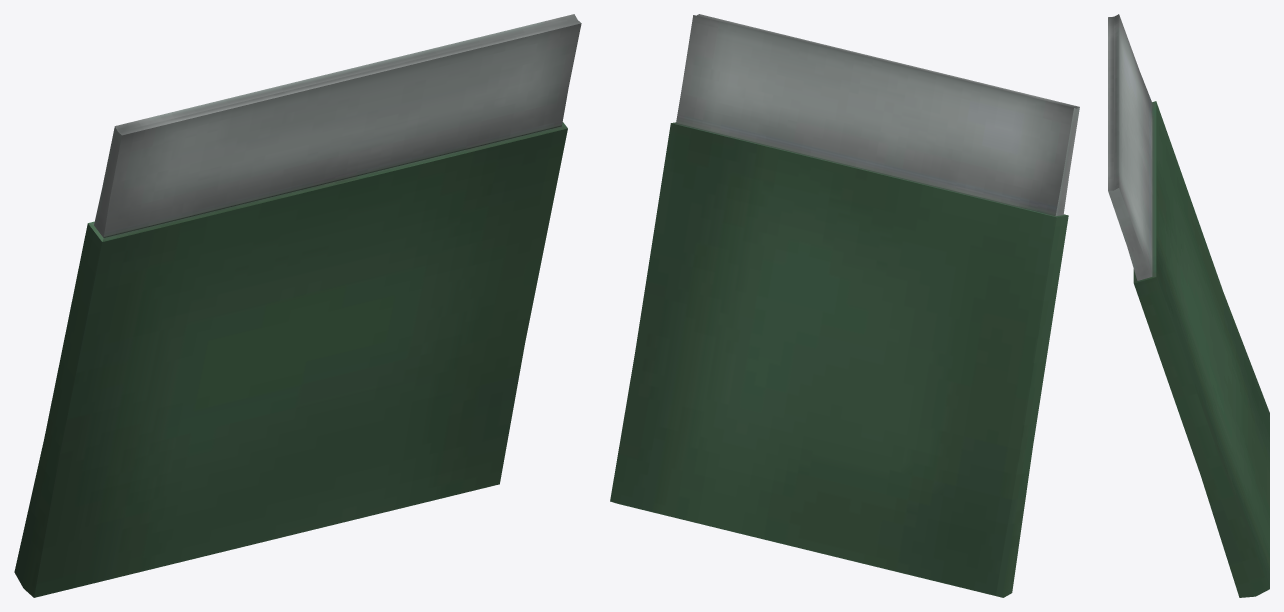
File: Files01.FBX
The picture shows the model from 3 angles, left to right: view 1: azimuth 30°, elevation 25°; view 2: azimuth 150°, elevation 25°; view 3: azimuth 270°, elevation 25°; orthographic projection. The views are drawn at different scales.
Visible parts, largest first — view 1: Box022; view 2: Box022; view 3: Box022.
Boxes of the visible parts, <box> form: Box022: <box>14,14,581,597</box>; Box022: <box>610,14,1079,597</box>; Box022: <box>1108,14,1269,597</box>.
Size of the model in its own units: 87.56 by 94.84 by 34.03.
1 material, 1 textured.
